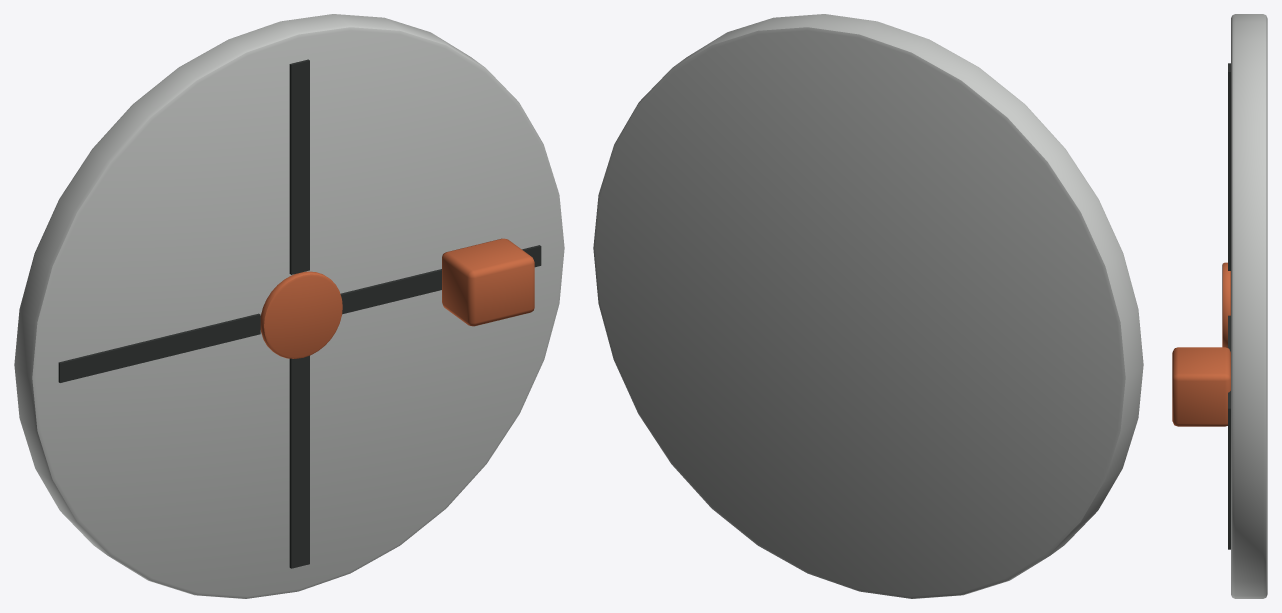
File: welding_positioner_turntable.glb
The picture shows the model from 3 angles, left to right: view 1: azimuth 30°, elevation 25°; view 2: azimuth 150°, elevation 25°; view 3: azimuth 270°, elevation 25°; orthographic projection. The views are drawn at different scales.
Visible parts, largest first — view 1: welding_positioner_turntable; view 2: welding_positioner_turntable; view 3: welding_positioner_turntable.
Part boxes in pixels (x1,y1,x2,y2): welding_positioner_turntable: [14, 14, 564, 598]; welding_positioner_turntable: [593, 14, 1143, 598]; welding_positioner_turntable: [1172, 14, 1267, 598].
Bounding box in the file's own units: 0.4 × 0.4 × 0.065.
